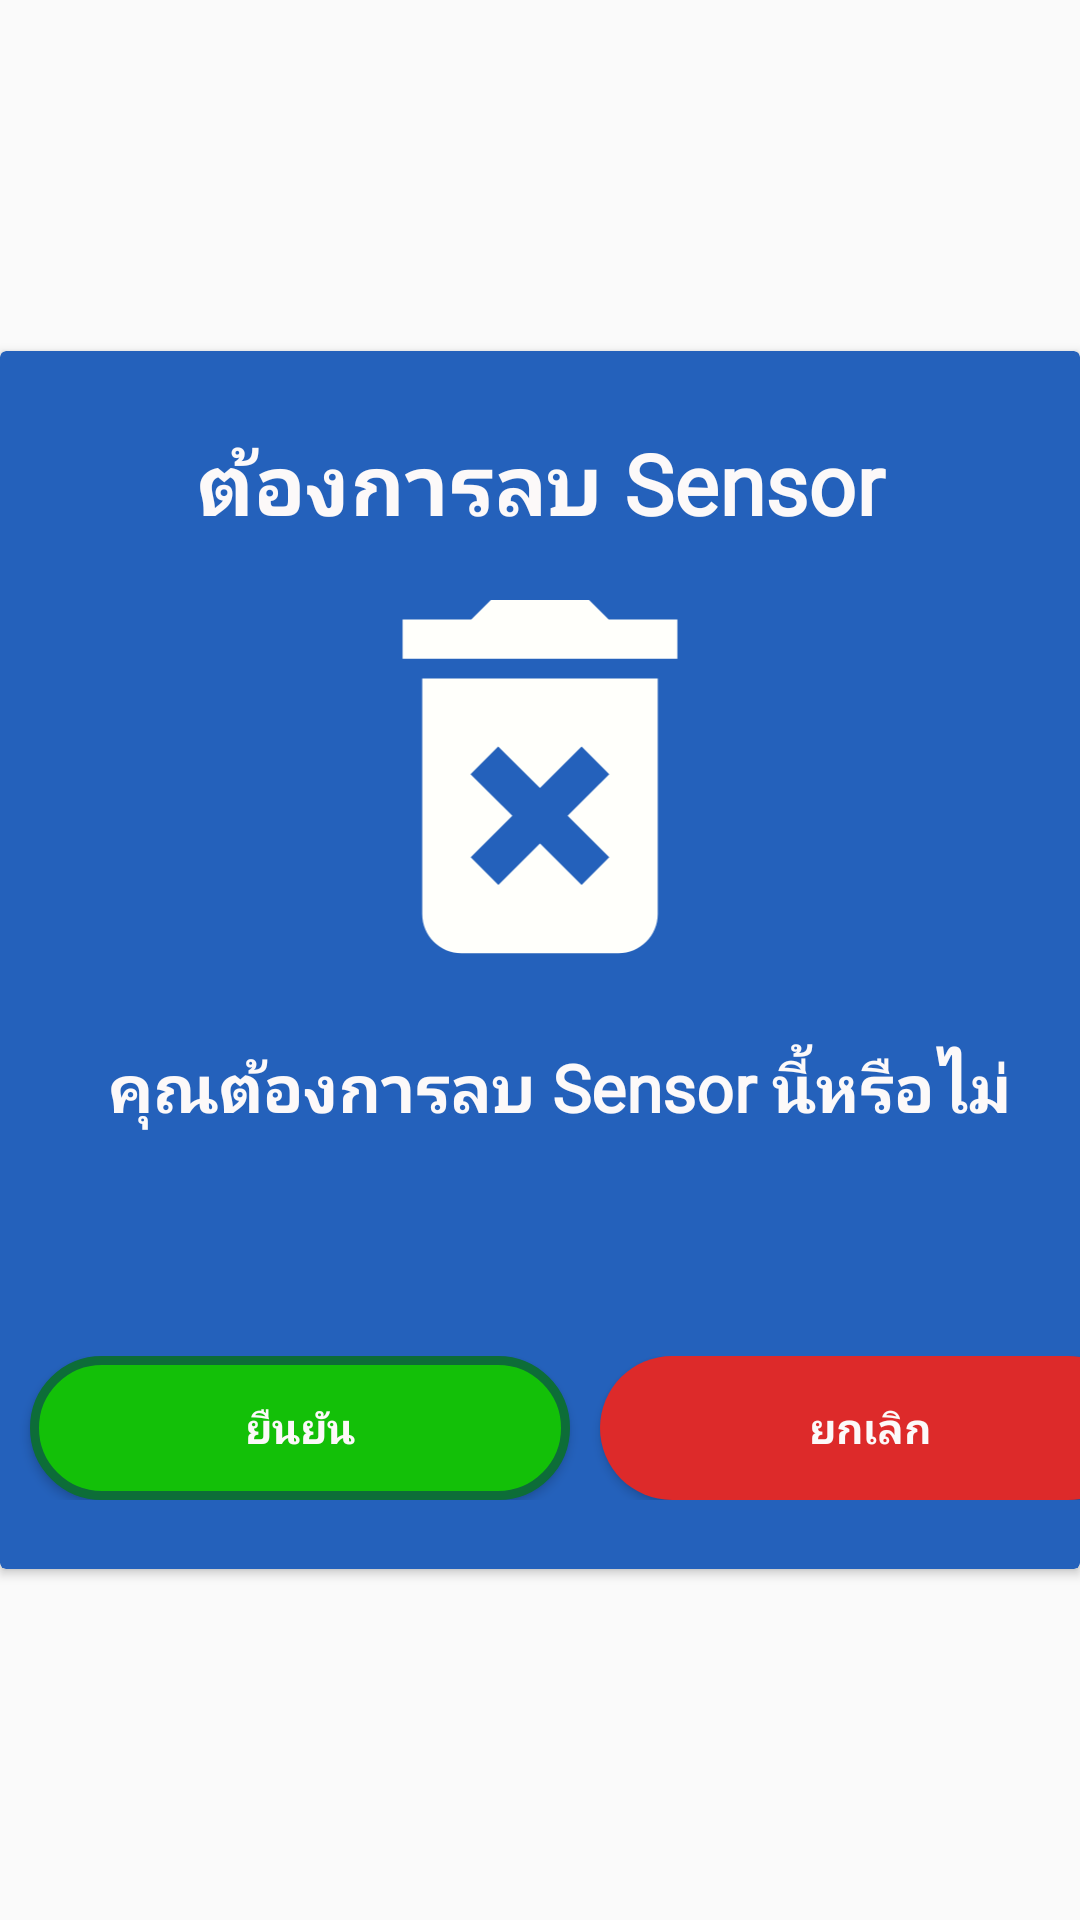

Icons on this 1080 × 1920 Android screen, each with the point to tap as (x,y):
delete forever: (540,777)
